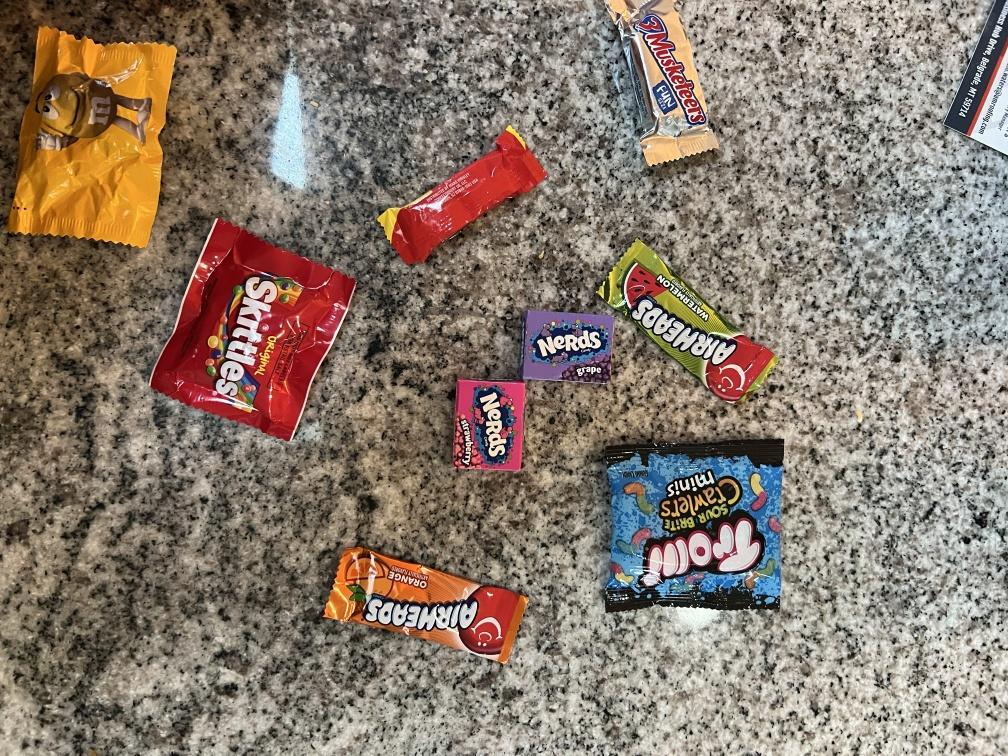MM_yellow: (5, 27, 179, 246)
Trolli: (597, 439, 785, 612)
airheads: (601, 238, 781, 404), (323, 547, 528, 664)
musketeers: (598, 3, 718, 170)
nerds: (452, 379, 525, 471), (521, 310, 609, 385)
skittles: (150, 220, 363, 442)
starburst: (376, 126, 544, 264)
